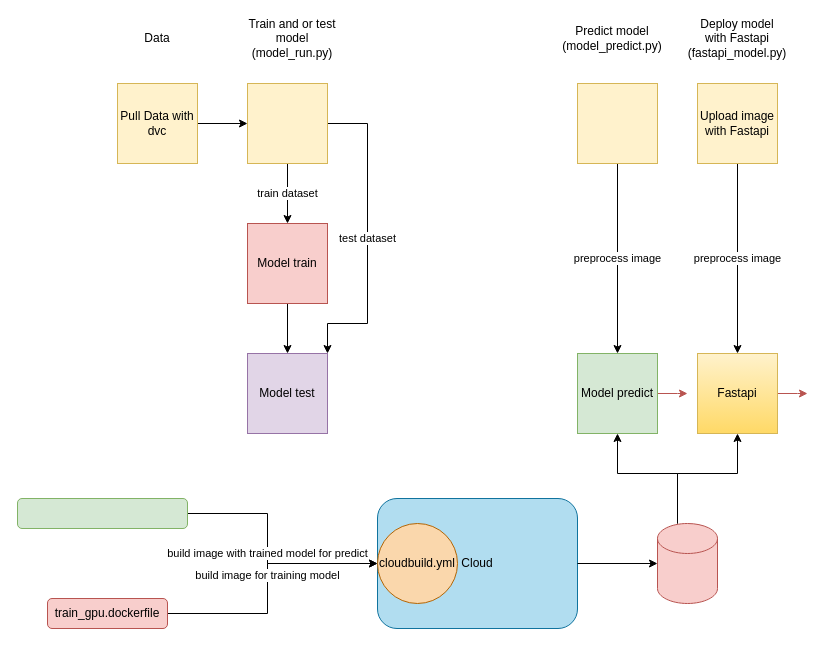
The diagram is 833 pixels wide and 646 high, and some of its shapes have lost their labels. The centre of each missing label's shape, as x and y in pixels:
bucket models: the point at 687,563
Data cleaning: the point at 287,123
Get sample image: the point at 617,123
predict_gpu.dockerfile: the point at 102,513
